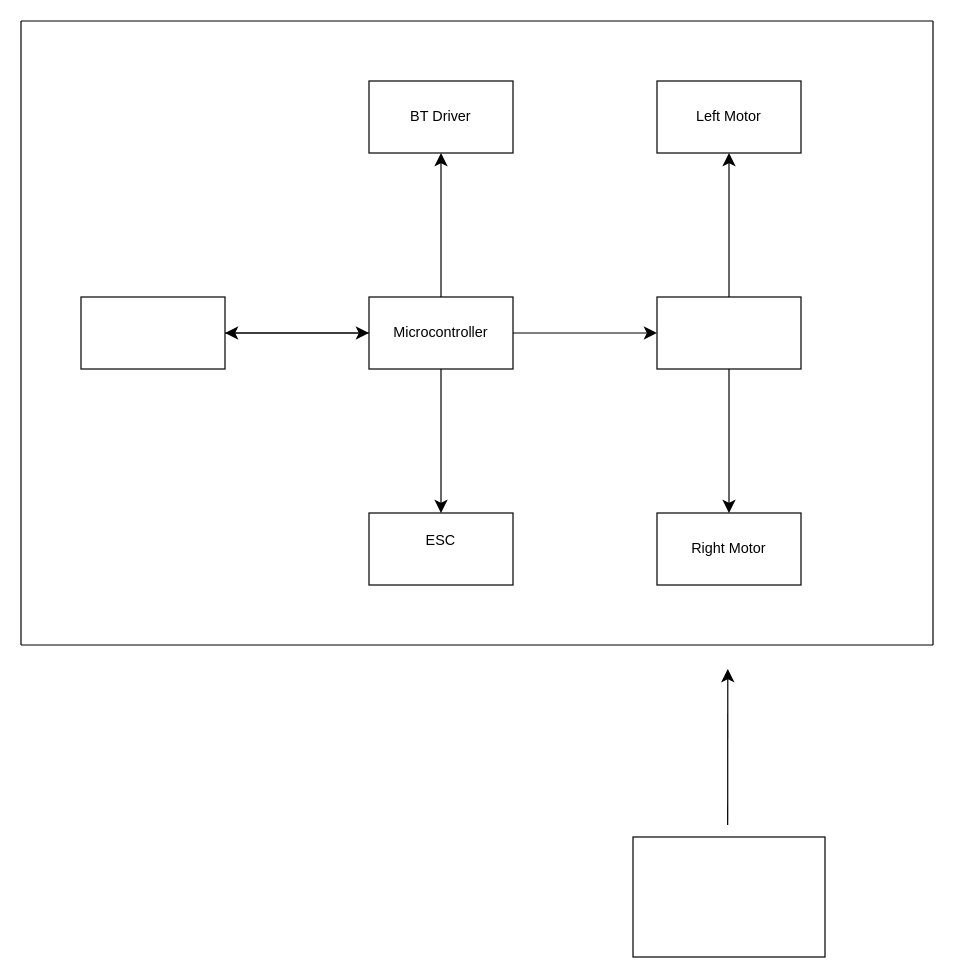
This 955x978 diagram has some shape labels left out. The shapes that lost their labels are listed below. From the top down, each one's box as (x1, y1, x2, y2) in pixels, then its label:
(80, 296, 225, 369): Sensor
(656, 296, 801, 369): Motor Driver
(632, 836, 825, 957): Battery Cell
